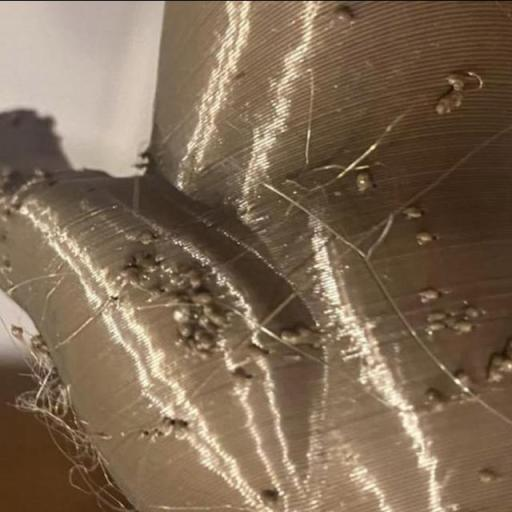blobs: (424, 383, 450, 416), (436, 92, 466, 118), (297, 316, 319, 346), (487, 357, 512, 383), (117, 263, 141, 290), (330, 3, 356, 27), (452, 366, 476, 392), (354, 163, 373, 195), (230, 366, 254, 391), (244, 336, 268, 361), (278, 323, 301, 348), (204, 307, 227, 331), (474, 469, 500, 489), (155, 416, 177, 439), (260, 486, 282, 509), (194, 290, 216, 312), (167, 268, 188, 290), (453, 314, 474, 336), (170, 307, 190, 329), (140, 227, 158, 251), (196, 334, 220, 352), (403, 200, 424, 220), (174, 421, 193, 443), (418, 285, 440, 304), (427, 307, 449, 326), (190, 270, 208, 290), (462, 302, 478, 318), (417, 234, 435, 248)
stringing: (32, 379, 78, 429), (68, 434, 98, 486), (29, 346, 56, 382)
